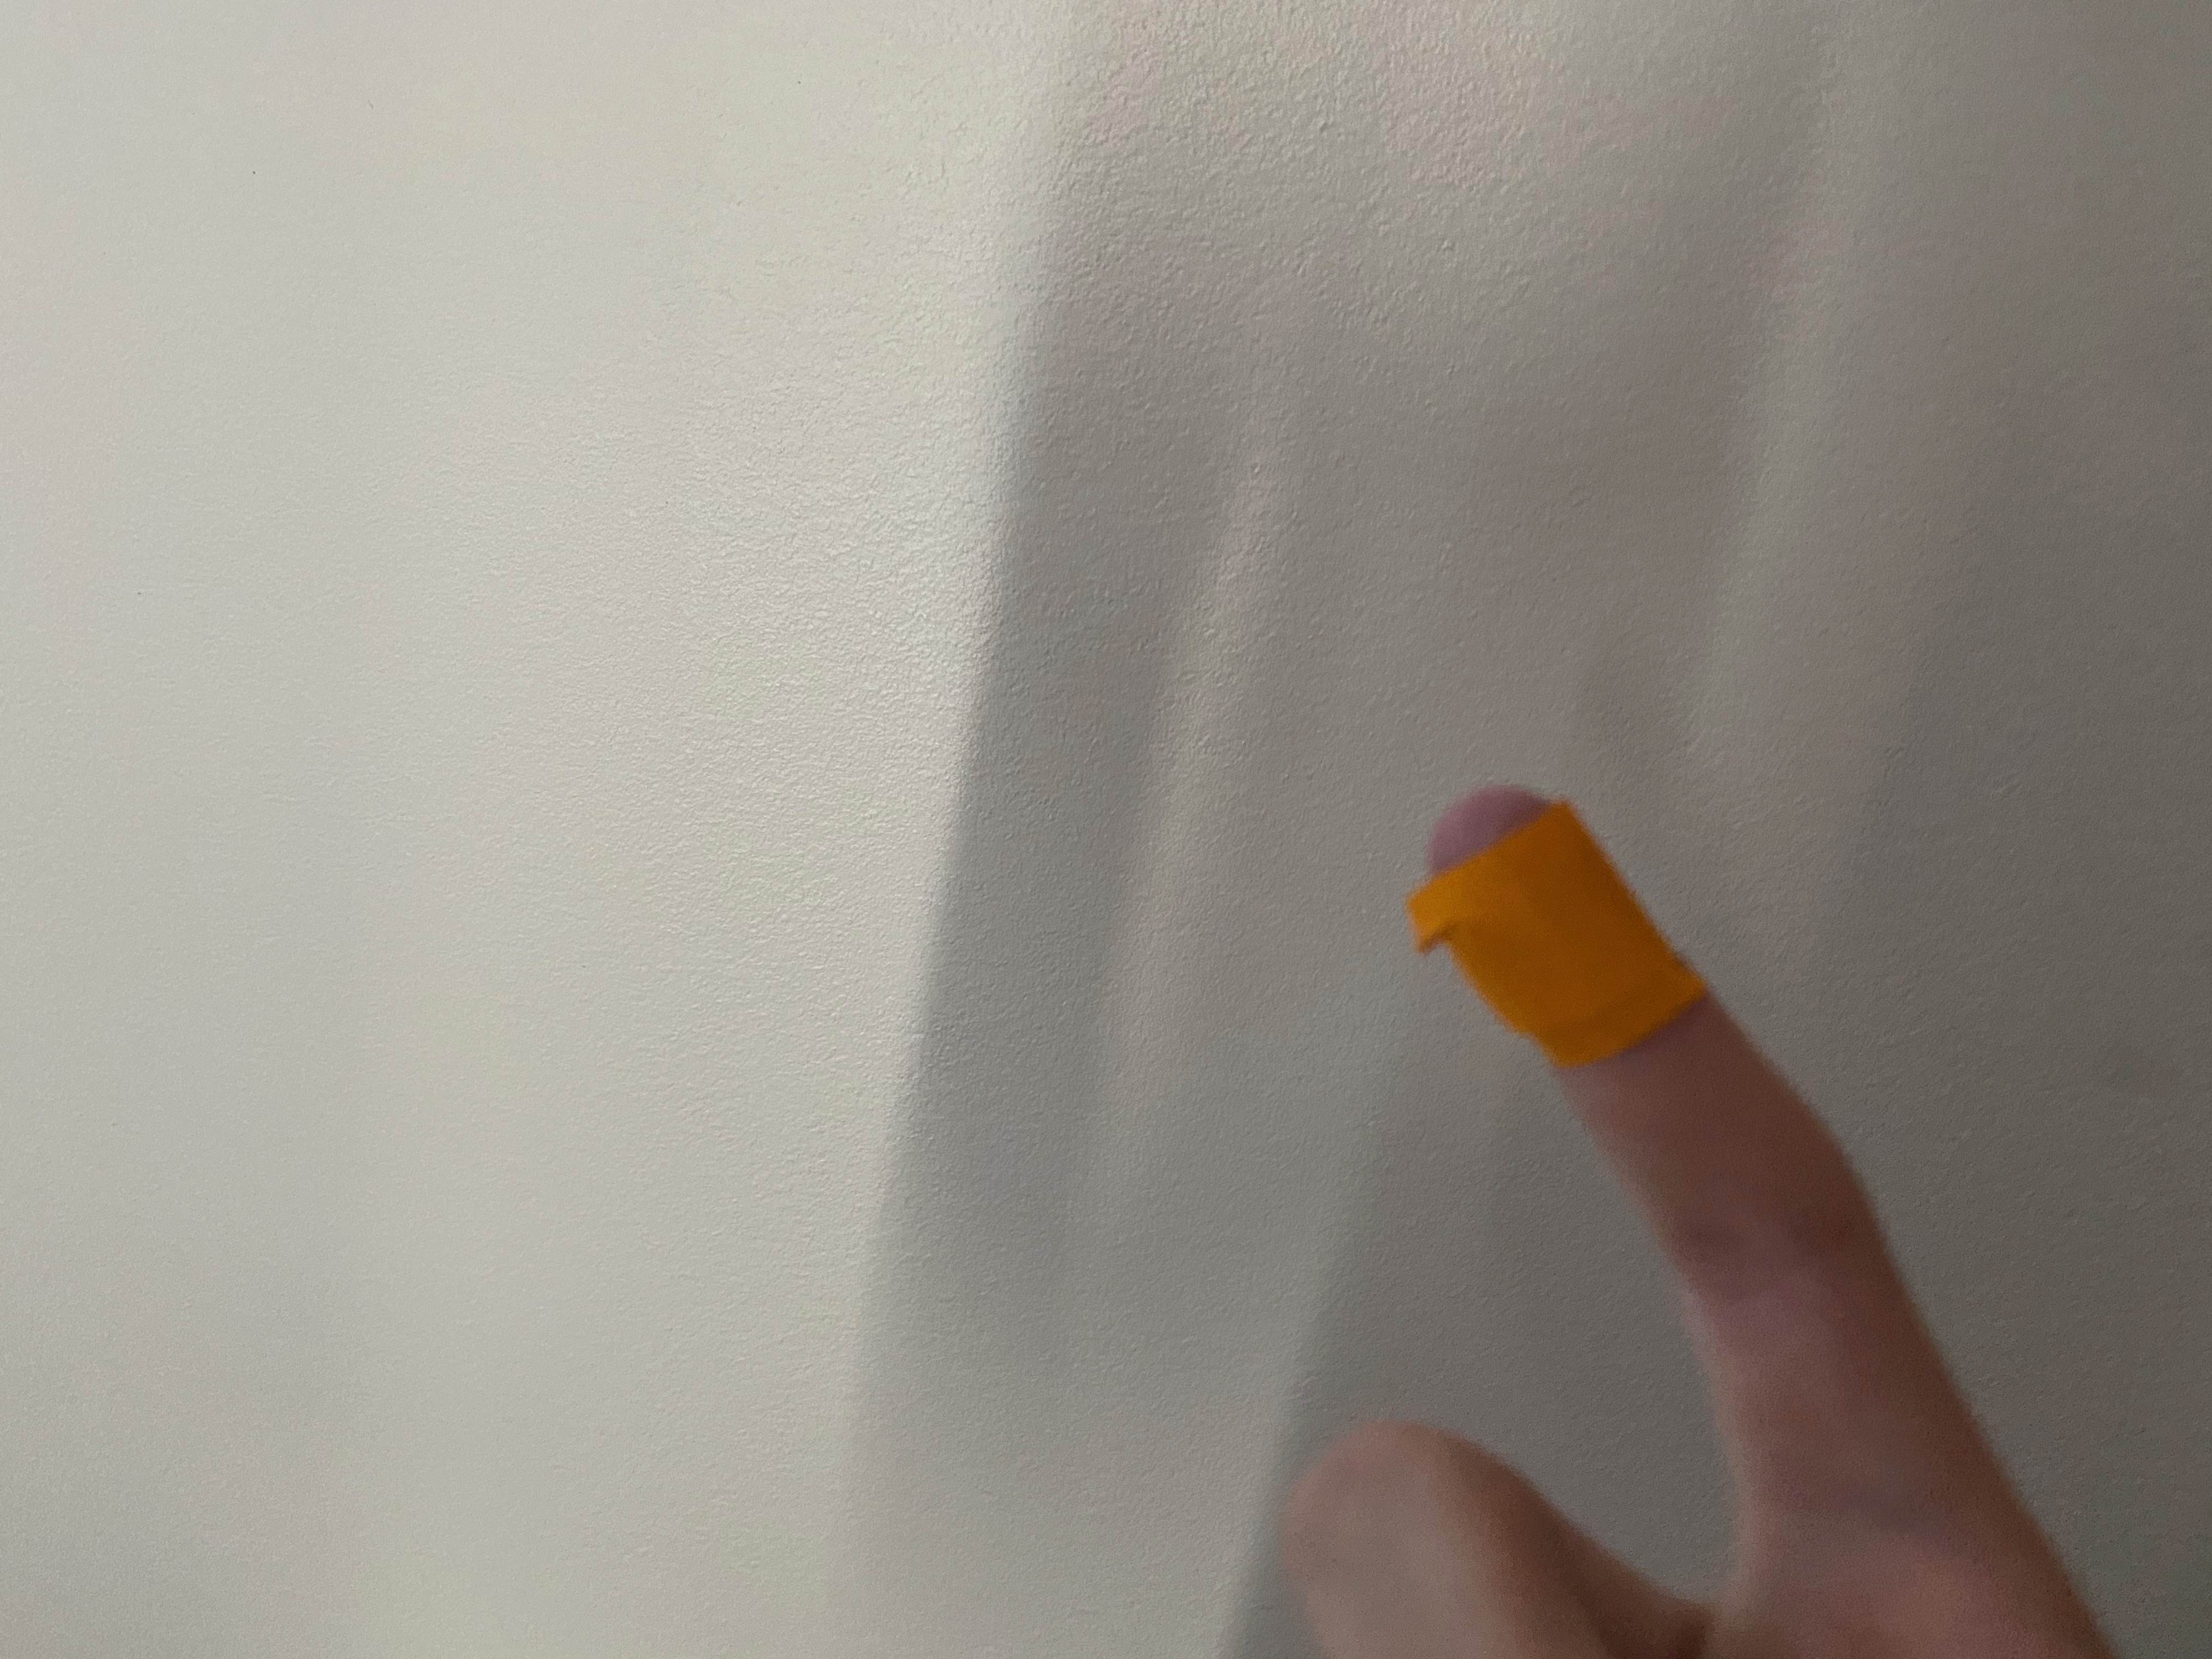fingertip: (1392, 786, 1728, 1065)
